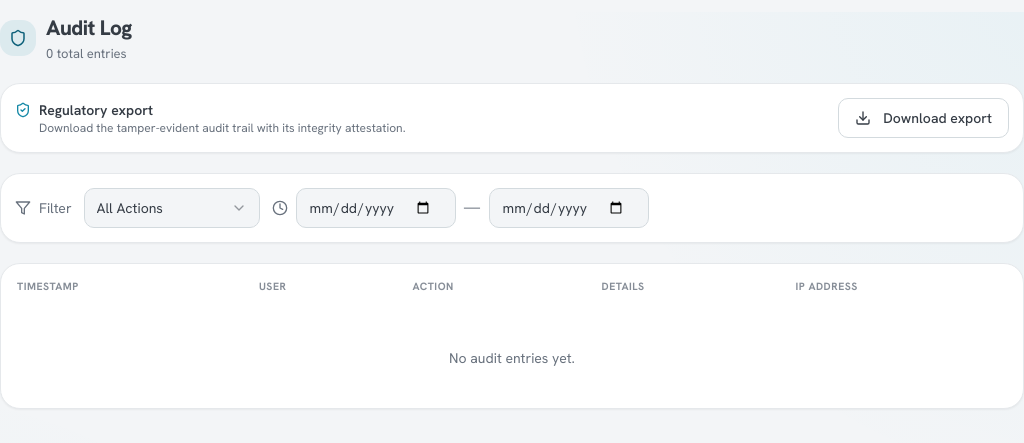
Test: AuditLog — regulatory export (#272) › downloads the export and shows the verified integrity attestation
Click the button "Download export". click: click(924, 118)
box: [838,98,1009,138]
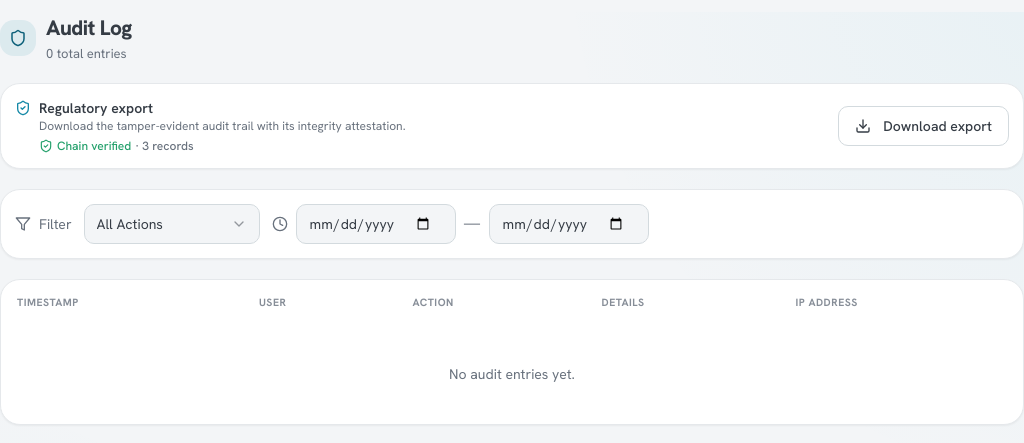
Result: the text "Chain verified · 3 records" is shown at [39,138,194,154]
